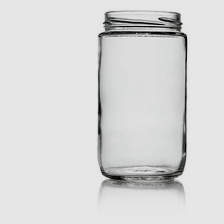glass: (90, 4, 194, 191)
